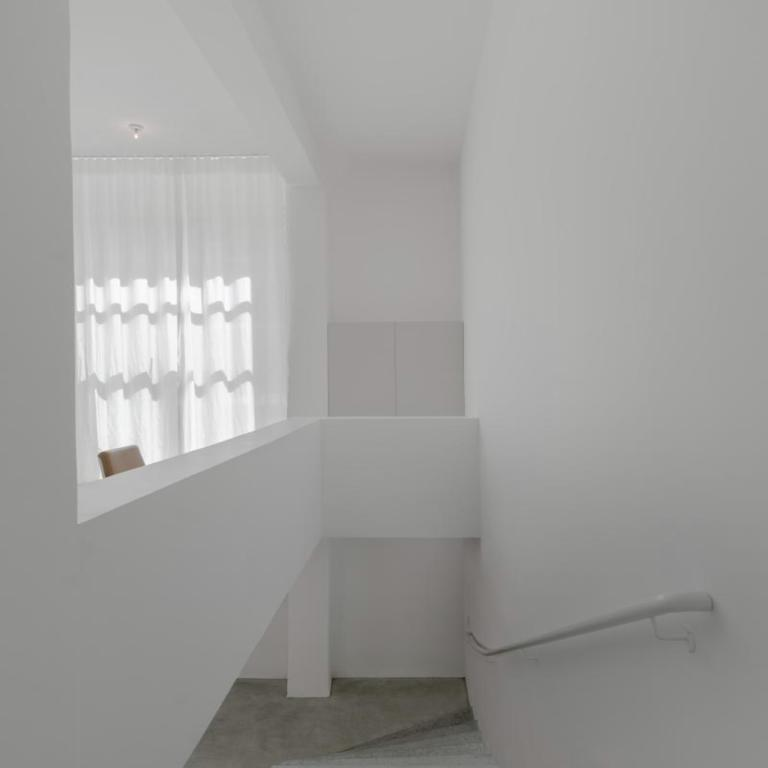white-walls: (17, 30, 731, 733)
